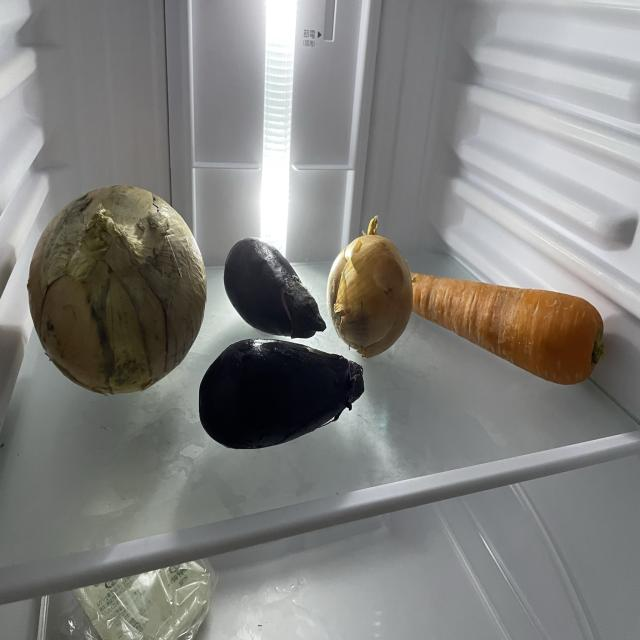carrot: (411, 269, 609, 395)
eggplant: (200, 337, 367, 462), (224, 241, 328, 342)
onion: (26, 185, 208, 407), (326, 229, 418, 372)
